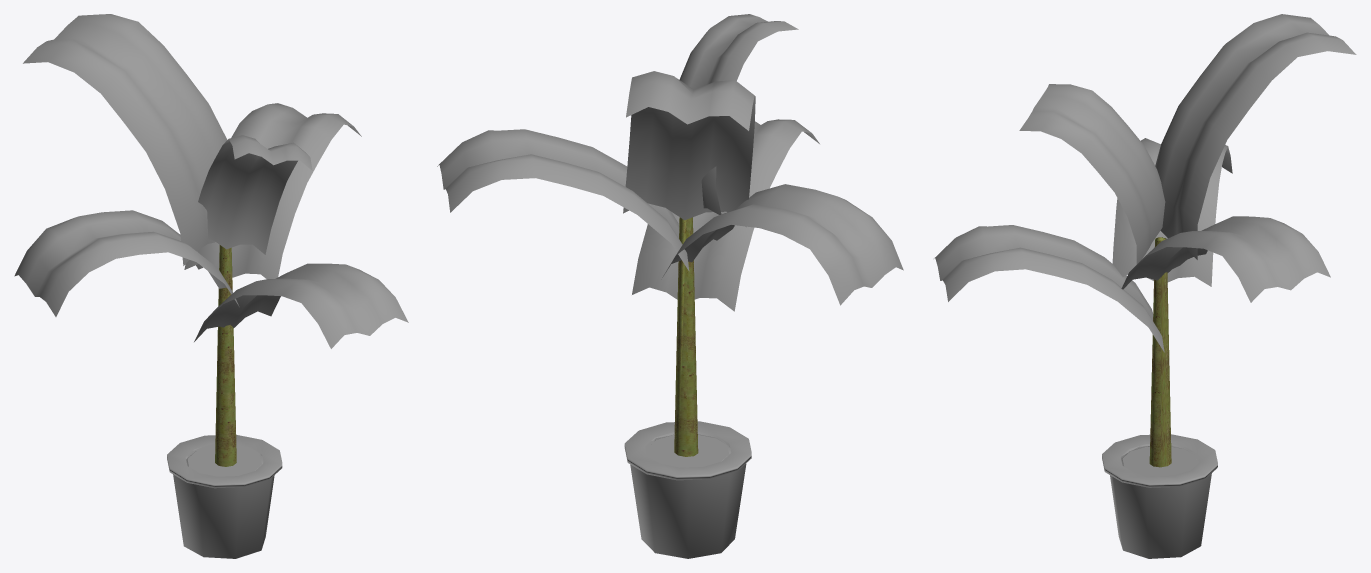
The model's file is House_Banana_leaf_lod1.fbx.
The picture shows the model from 3 angles, left to right: view 1: azimuth 30°, elevation 25°; view 2: azimuth 150°, elevation 25°; view 3: azimuth 270°, elevation 25°; orthographic projection. The views are drawn at different scales.
Visible parts, largest first — view 1: House_Banana_leaf_lod1; view 2: House_Banana_leaf_lod1; view 3: House_Banana_leaf_lod1.
Part boxes in pixels (bbox=[...]): House_Banana_leaf_lod1: bbox=[14, 14, 408, 558]; House_Banana_leaf_lod1: bbox=[437, 14, 903, 558]; House_Banana_leaf_lod1: bbox=[934, 14, 1356, 558].
Size of the model in its own units: 112 by 142 by 112.
3 materials, 1 textured.
